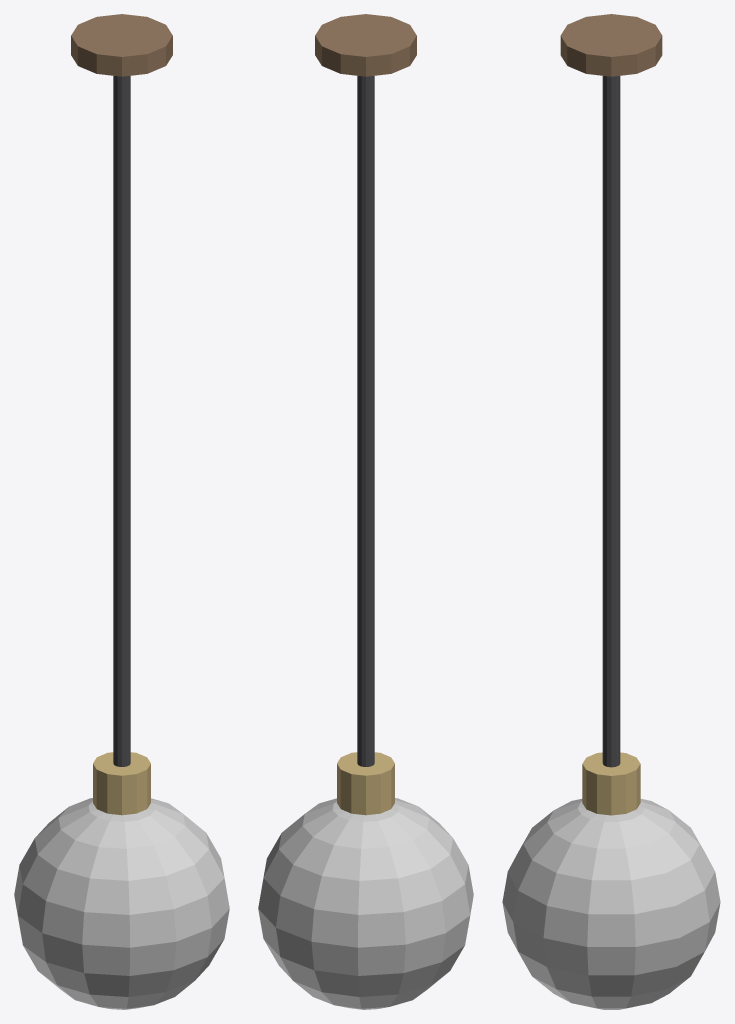
Rendered from ilu_pendente_sala2.glb.
3 renders of one model, left to right at view 1: azimuth 30°, elevation 25°; view 2: azimuth 150°, elevation 25°; view 3: azimuth 270°, elevation 25°, orthographic.
Parts seen in each view (by area): view 1: ILU_Pendente_Sala2_v01; view 2: ILU_Pendente_Sala2_v01; view 3: ILU_Pendente_Sala2_v01.
Part boxes in pixels (bbox=[...]): ILU_Pendente_Sala2_v01: bbox=[14, 14, 229, 1009]; ILU_Pendente_Sala2_v01: bbox=[258, 14, 473, 1009]; ILU_Pendente_Sala2_v01: bbox=[502, 14, 720, 1009].
Bounding box in the file's own units: 0.2925 × 1.46 × 0.3.
